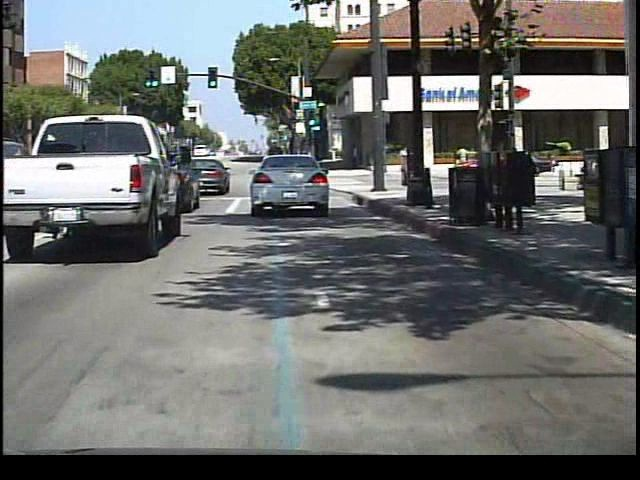person: (453, 139, 472, 176), (398, 142, 415, 177)
